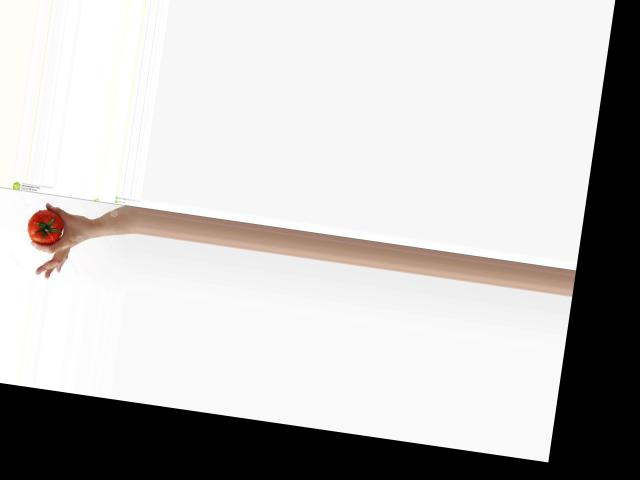tomato: (25, 207, 65, 247)
